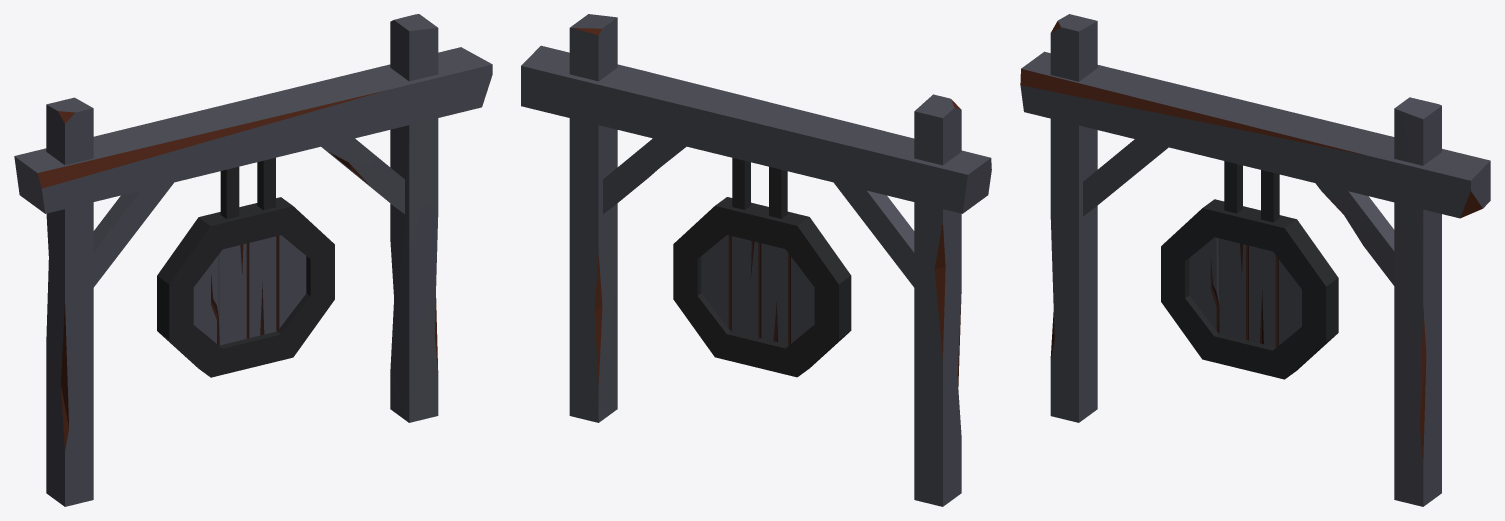
File: Sign_2_2.fbx
3 renders of one model, left to right at view 1: azimuth 30°, elevation 25°; view 2: azimuth 150°, elevation 25°; view 3: azimuth 330°, elevation 25°, orthographic.
Parts seen in each view (by area): view 1: Sign_2_2; view 2: Sign_2_2; view 3: Sign_2_2.
Part boxes in pixels (left/top/right/bottom): Sign_2_2: left=14, top=14, right=492, bottom=506; Sign_2_2: left=521, top=14, right=991, bottom=506; Sign_2_2: left=1020, top=14, right=1490, bottom=506.
Size of the model in its own units: 102 by 84.25 by 10.01.
